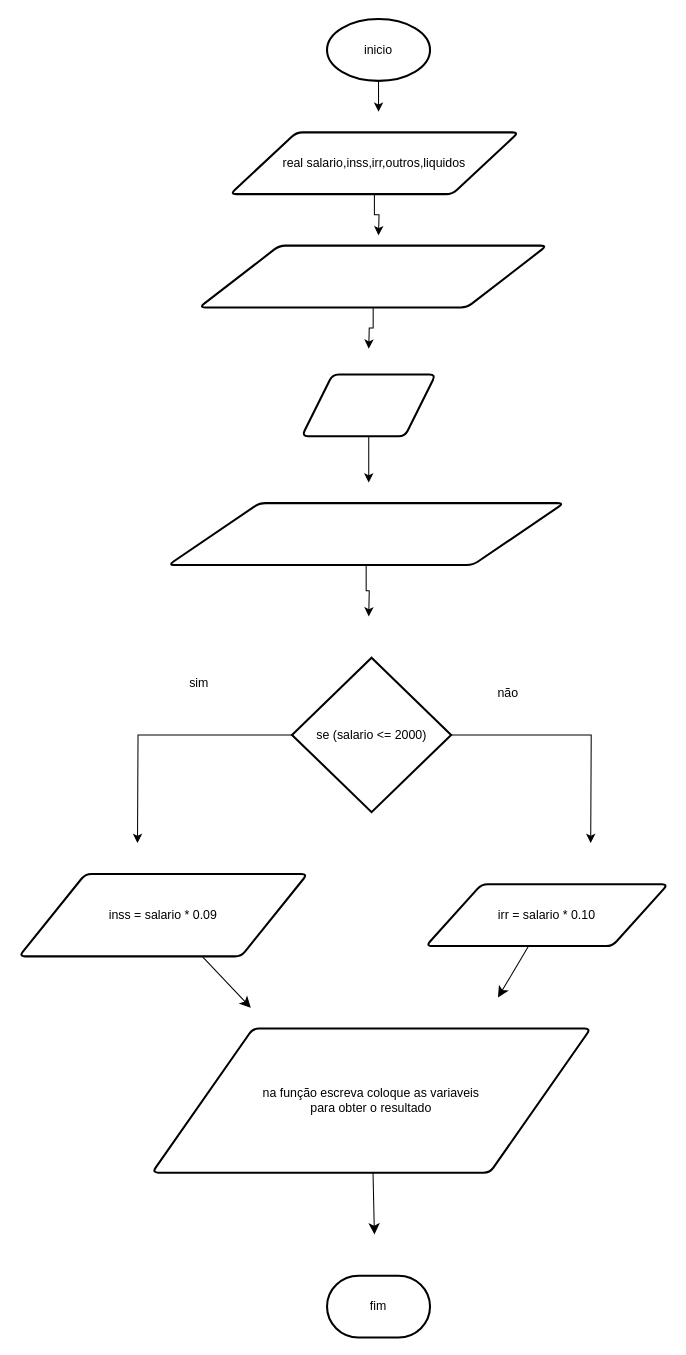
Some shapes in this 686 by 1355 pixel diagram are drawn without their labels. The box of each missing label's shape, as (x1, y1, x2, y2) in pixels:
// exemplo de regra do inss: (167, 502, 564, 565)
escreva("digite o salario bruto: "): (198, 244, 547, 308)
leia(salario): (300, 373, 436, 437)
